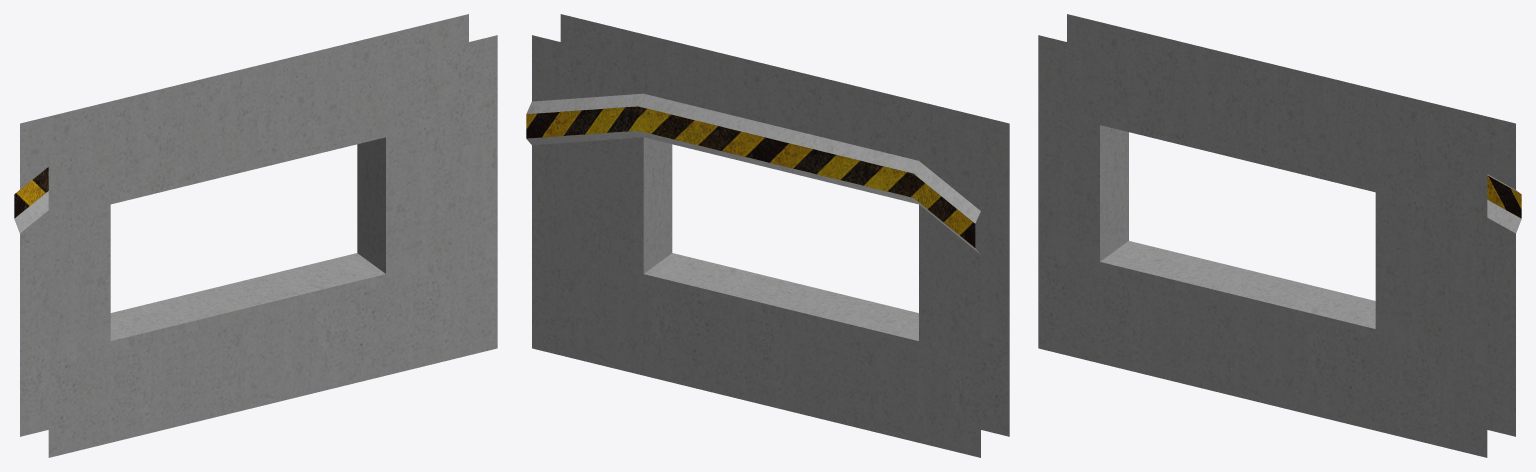
File: Wall_Window_02.FBX
3 views of the same model, side by side, from view 1: azimuth 30°, elevation 25°; view 2: azimuth 150°, elevation 25°; view 3: azimuth 330°, elevation 25° (orthographic).
Parts seen in each view (by area): view 1: Wall_Window_02_mesh; view 2: Wall_Window_02_mesh; view 3: Wall_Window_02_mesh.
Part boxes in pixels (left/top/right/bottom): Wall_Window_02_mesh: left=14, top=14, right=497, bottom=457; Wall_Window_02_mesh: left=526, top=14, right=1009, bottom=457; Wall_Window_02_mesh: left=1038, top=14, right=1521, bottom=457.
Size of the model in its own units: 450 by 300 by 59.8.
2 materials, 2 textured.
